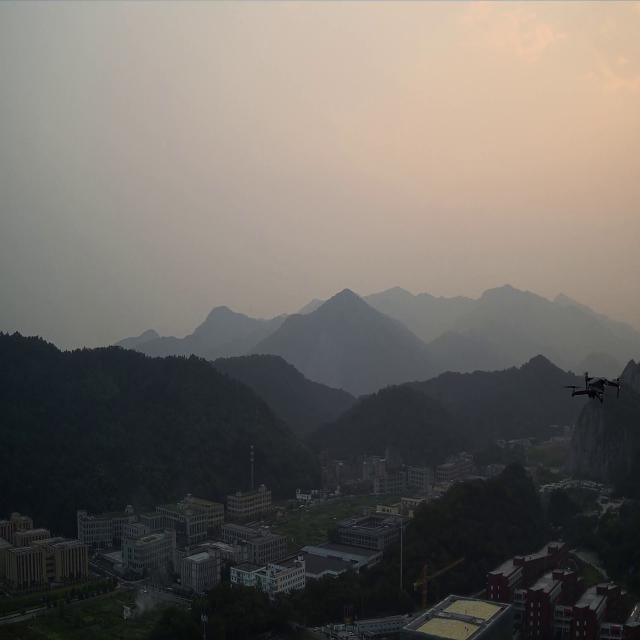UAV: (560, 368, 624, 404)
